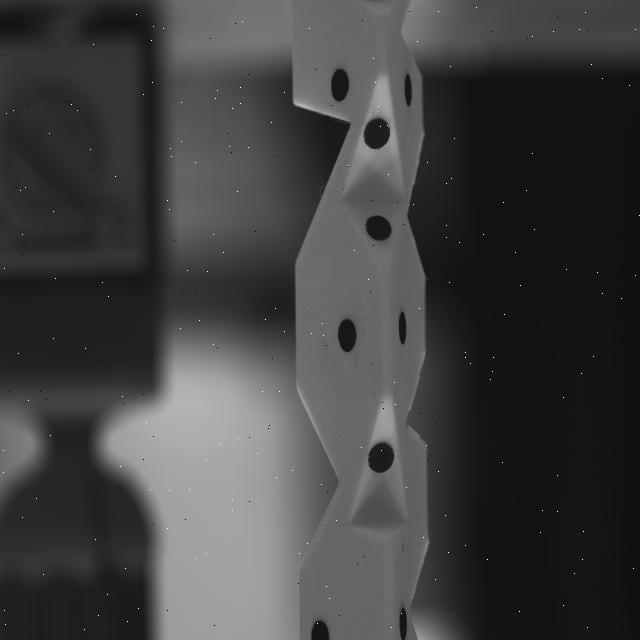circle point: (364, 118, 389, 150), (368, 442, 394, 472), (365, 214, 392, 240), (338, 319, 357, 352), (331, 68, 348, 102), (398, 310, 407, 344), (403, 72, 412, 106)
